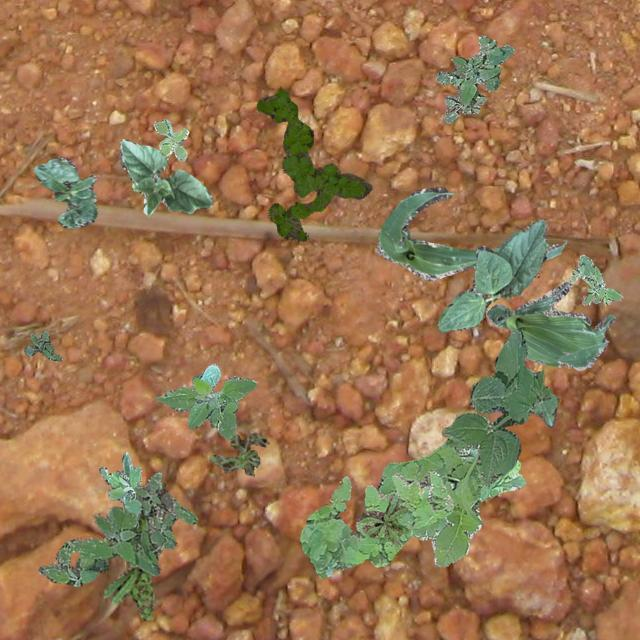crop: (377, 186, 566, 280), (437, 218, 548, 332), (486, 281, 614, 368), (154, 362, 256, 438), (119, 137, 211, 215), (33, 156, 96, 228), (526, 368, 558, 427)
weed: (376, 437, 524, 568), (37, 474, 196, 586), (256, 86, 370, 240), (442, 328, 550, 484), (300, 470, 452, 578), (434, 34, 512, 122), (102, 504, 154, 620), (98, 452, 140, 526), (354, 492, 408, 544), (568, 254, 622, 304), (208, 432, 268, 474), (152, 118, 188, 160), (24, 330, 61, 360)
